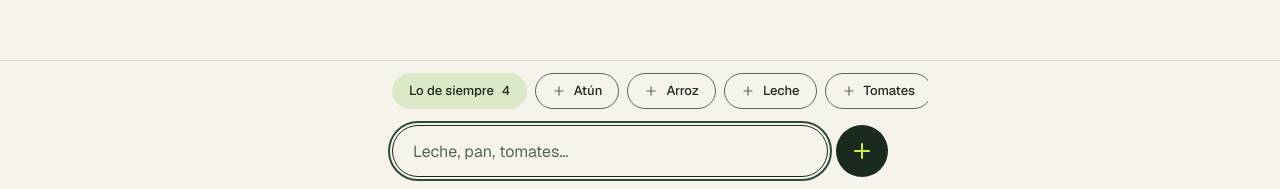
the add field as a combobox › filters by the name part of what is typed, with what is pending next to the field
In the dropdown named "Producto para agregar": (610, 151) 392,125 -> 828,177, type "2 kg lec"
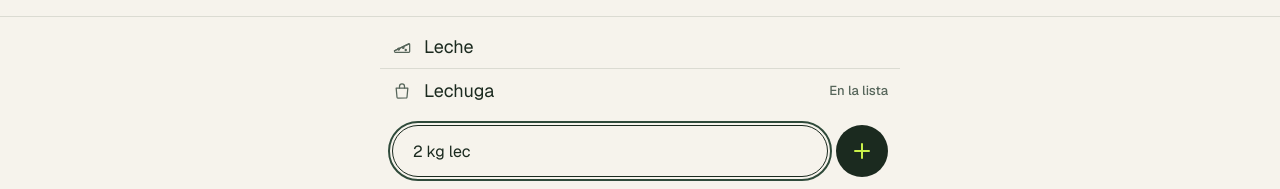
Check: the option "Leche" does not show "En la lista", box 380,25 -> 900,69
Check: the option "Lechuga En la lista" is shown, box 392,79 -> 888,102
Replace the text in the dropdown named "Producto para agregar" with "zzz": (610, 151) 392,125 -> 828,177
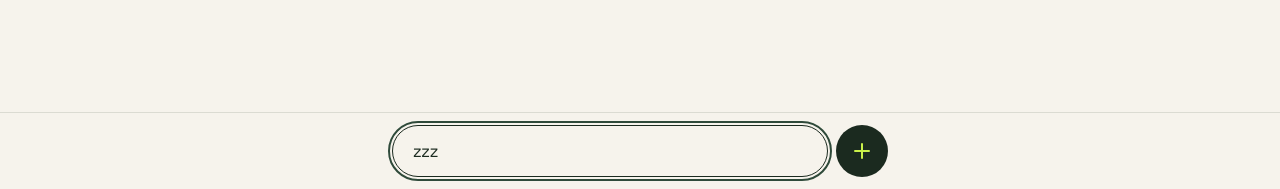
Check: the dropdown named "Producto para agregar" is collapsed, box 392,125 -> 828,177
Check: the list is gone
